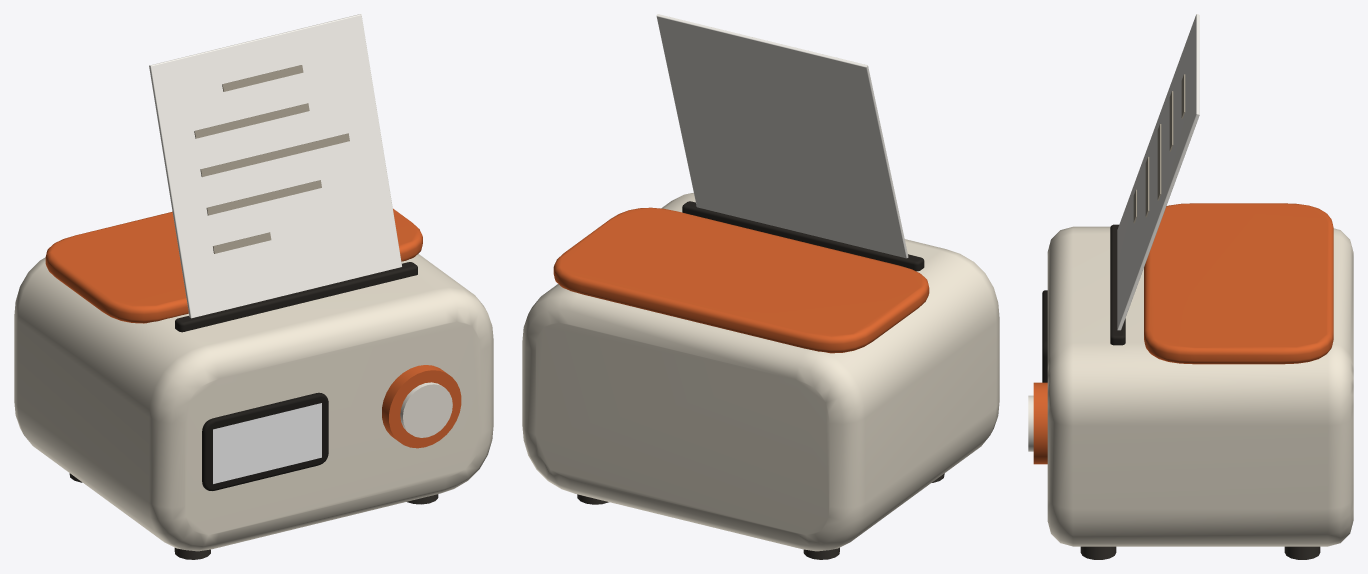
The model's file is printer.glb.
3 renders of one model, left to right at view 1: azimuth 30°, elevation 25°; view 2: azimuth 150°, elevation 25°; view 3: azimuth 270°, elevation 25°, orthographic. The views are drawn at different scales.
Parts seen in each view (by area): view 1: Body, Paper, Lid, Screen, Button, Bezel, Slot; view 2: Body, Paper, Lid, Slot; view 3: Body, Lid, Paper, Button, Slot, Feet, Bezel.
Boxes of the visible parts, x1,y1,x2,y2 form: Body: (14,254,493,551); Paper: (149,14,401,318); Lid: (45,208,422,323); Screen: (213,403,321,483); Button: (382,365,461,448); Bezel: (202,392,328,490); Slot: (175,262,417,332); Body: (522,193,999,551); Paper: (656,14,908,258); Lid: (553,207,929,353); Slot: (682,201,924,271); Body: (1047,226,1353,546); Lid: (1144,203,1333,364); Paper: (1117,14,1199,330); Button: (1028,382,1047,464); Slot: (1110,224,1125,345); Feet: (1080,546,1320,559); Bezel: (1042,290,1047,382).
Size of the model in its own units: 0.3 by 0.3761 by 0.255.
